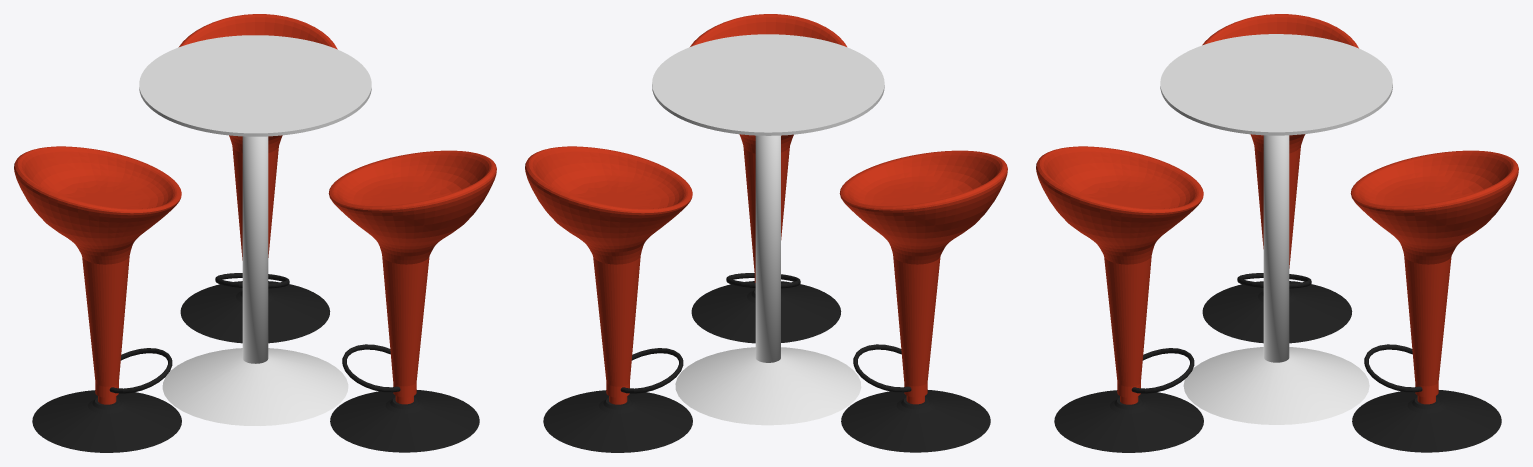
The picture shows the model from 3 angles, left to right: view 1: azimuth 30°, elevation 25°; view 2: azimuth 150°, elevation 25°; view 3: azimuth 270°, elevation 25°; orthographic projection.
Visible parts, largest first — view 1: Grupo#10_001, bar-chair-_002, bar-chair-_001, Group_004, Group_003, Grupo#8_001, Group_005, Grupo#7_001, bar-chair-_003; view 2: Grupo#10_001, bar-chair-_003, bar-chair-_002, Group_005, Group_004, Grupo#8_001, Group_003, Grupo#7_001, bar-chair-_001; view 3: Grupo#10_001, bar-chair-_001, bar-chair-_003, Group_003, Group_005, Grupo#8_001, Group_004, Grupo#7_001, bar-chair-_002.
Part boxes in pixels (x1,y1,x2,y2): Grupo#10_001: (139,35,371,136); bar-chair-_002: (14,146,181,393); bar-chair-_001: (328,150,496,392); Group_004: (32,256,181,452); Group_003: (330,255,479,452); Grupo#8_001: (162,348,348,425); Group_005: (180,146,330,343); Grupo#7_001: (242,136,268,363); bar-chair-_003: (178,14,337,288); Grupo#10_001: (652,34,884,135); bar-chair-_003: (525,146,692,393); bar-chair-_002: (839,150,1007,392); Group_005: (543,256,692,452); Group_004: (841,255,990,452); Grupo#8_001: (675,347,861,425); Group_003: (691,146,841,343); Grupo#7_001: (755,135,780,362); bar-chair-_001: (690,14,846,288); Grupo#10_001: (1160,34,1392,135); bar-chair-_001: (1036,146,1203,393); bar-chair-_003: (1350,150,1518,392); Group_003: (1054,256,1203,452); Group_005: (1352,255,1501,452); Grupo#8_001: (1183,347,1369,424); Group_004: (1202,146,1352,343); Grupo#7_001: (1263,135,1289,362); bar-chair-_002: (1202,14,1358,288).
Bounding box in the file's own units: 1329 × 1005 × 1453.
